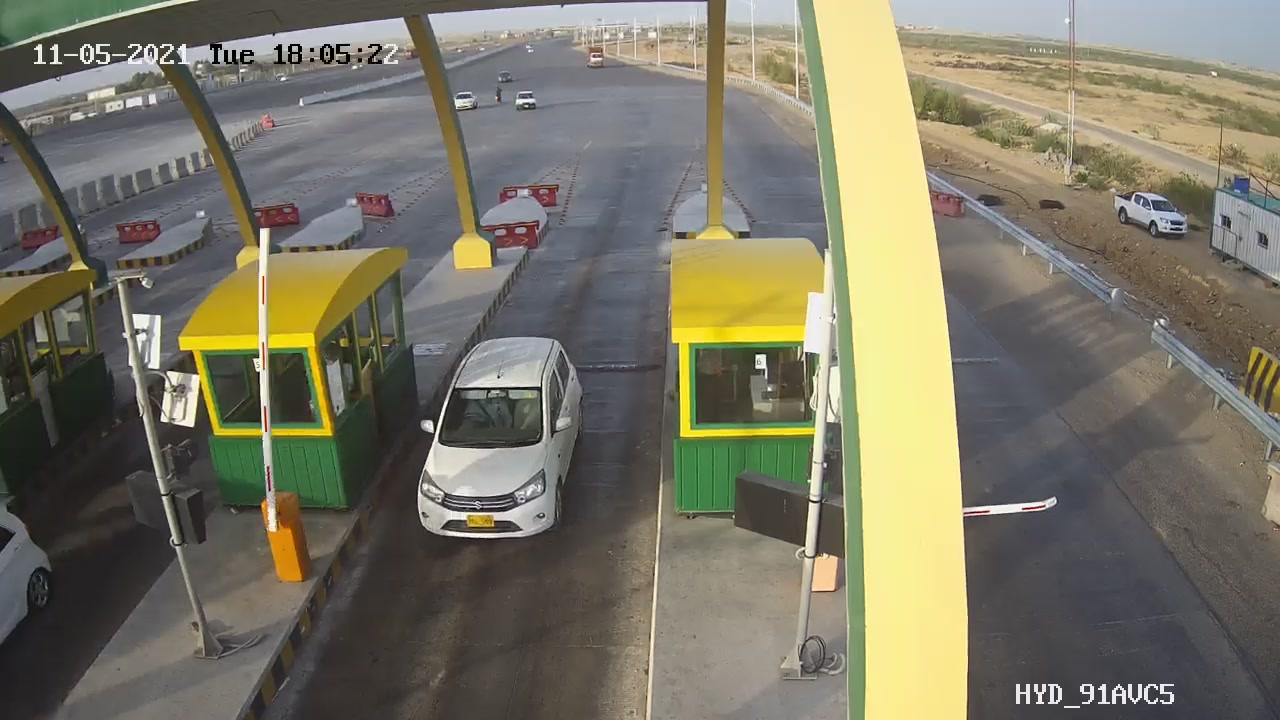F1: (386, 334, 600, 574)
